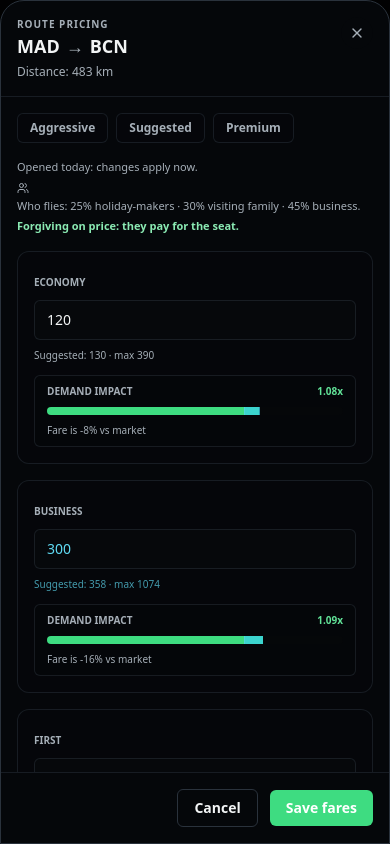
Test: FareEditor › projects the typed fares against today's as you type
Replace the text in the number field labelled "Economy" with "100" at (195, 320), box [34,300,356,340]
(page scrolled)
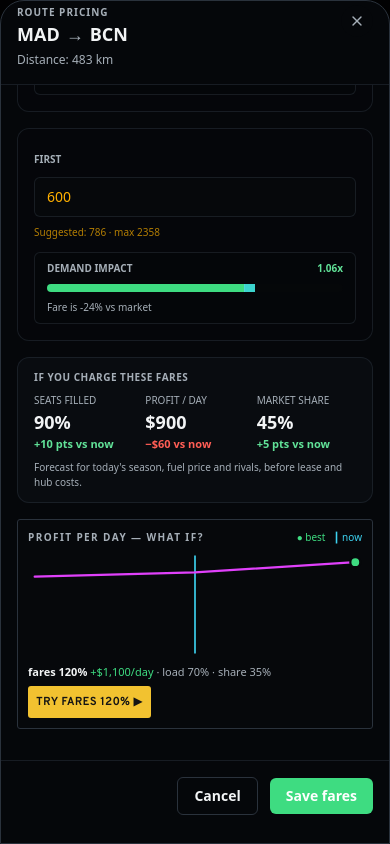
Now the element with test id "fare-outcome-load" shows "90%", box [34,410,71,434]
Now the element with test id "fare-outcome-load" shows "+10 pts vs now", box [34,436,114,450]
Now the element with test id "fare-outcome-share" shows "45%", box [257,410,294,434]
